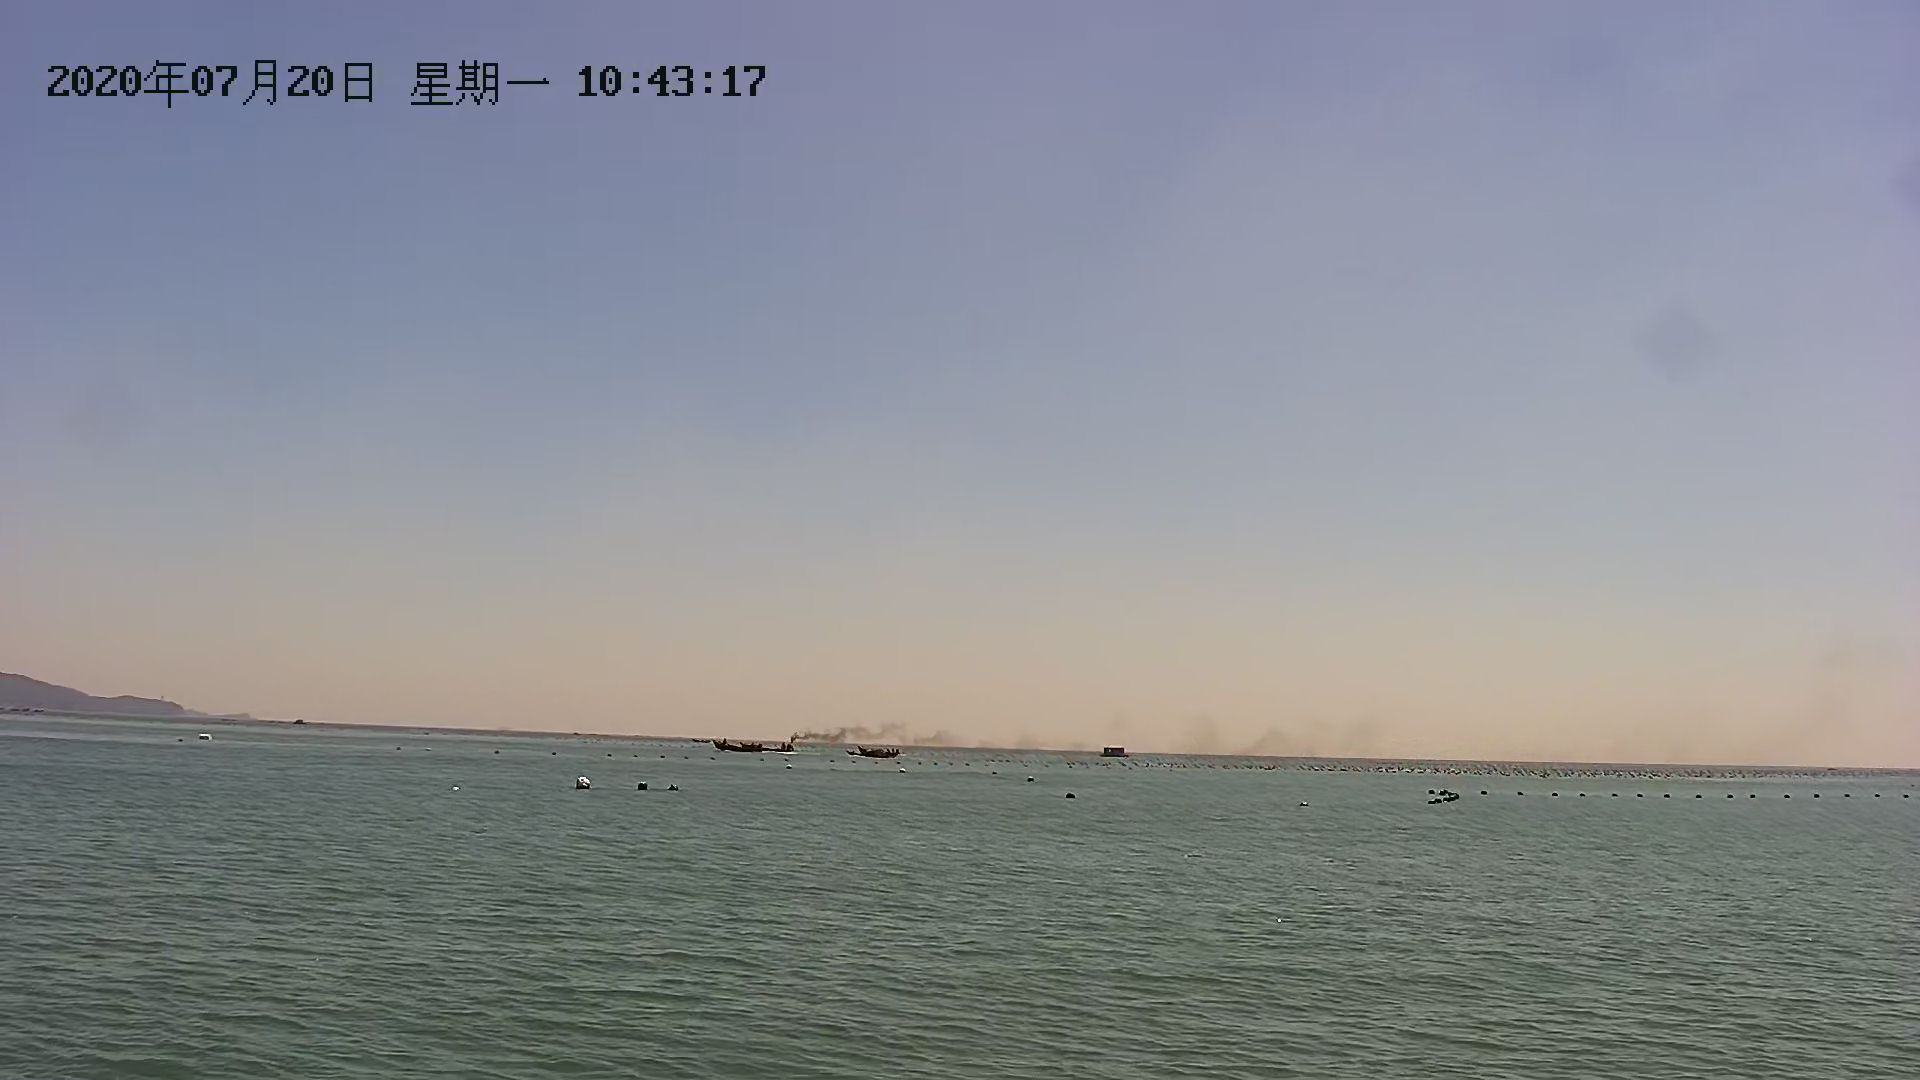ball: (633, 775, 657, 796)
boat: (709, 736, 804, 756)
platform: (1095, 741, 1131, 760)
rubbish: (858, 742, 895, 764), (568, 771, 597, 794)
